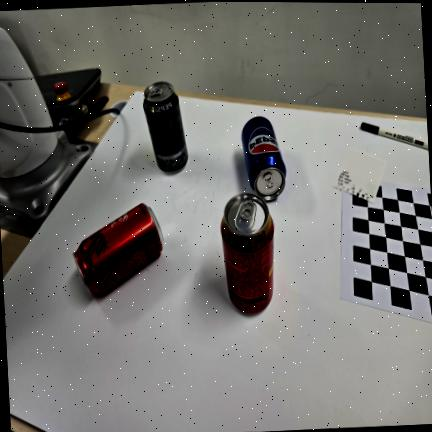can_coke_decaf: (221, 194, 274, 313)
can_coke_zero: (74, 204, 163, 294)
can_pepsi: (242, 117, 286, 200)
can_pepsi_zero: (143, 82, 188, 173)
